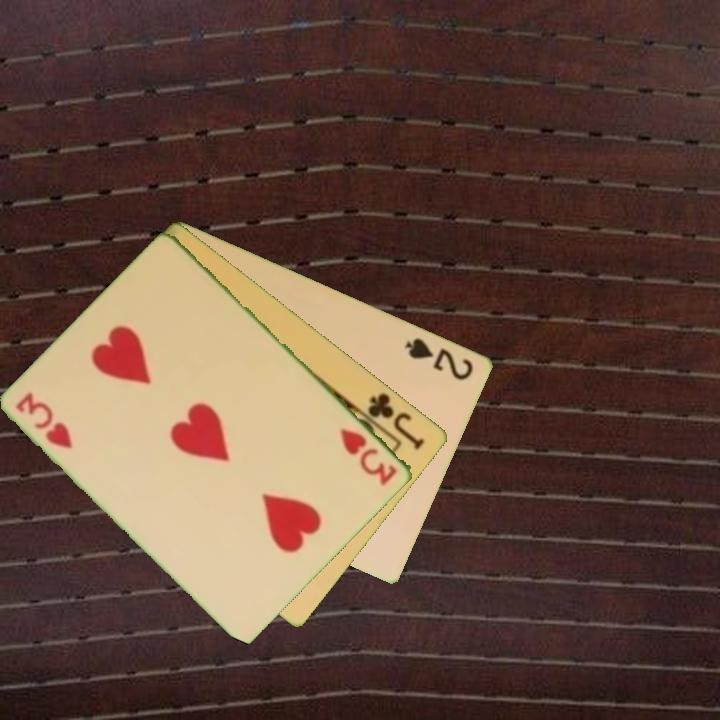2s: (401, 334, 477, 384)
3h: (337, 424, 401, 489), (12, 388, 76, 452)
Jc: (364, 389, 428, 453)
